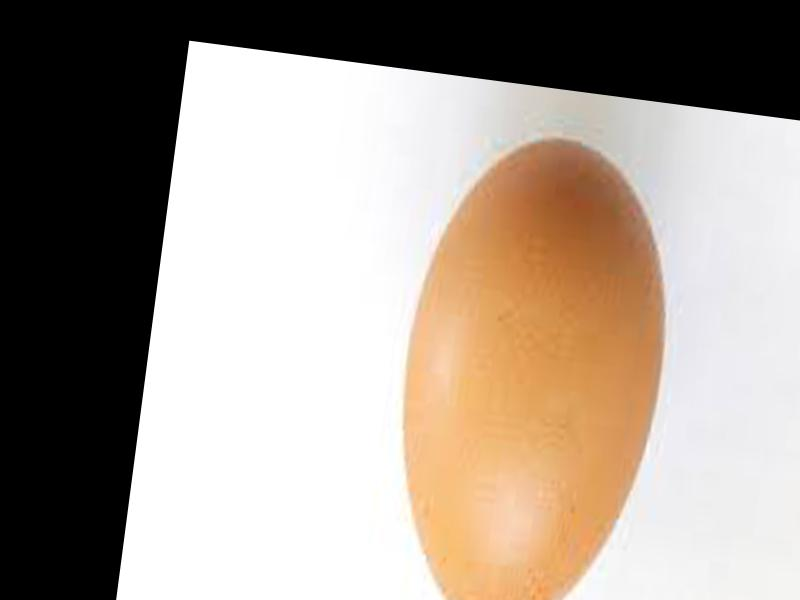Eggs: (375, 126, 689, 600)
